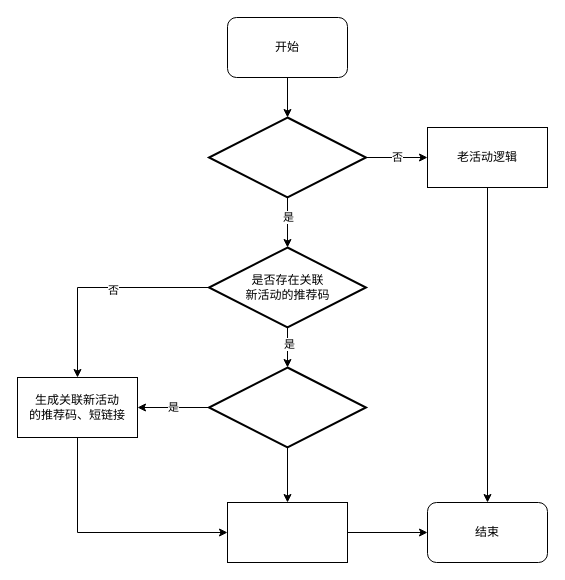
Image size: 565x580. Some labels were removed from this diagram. The shapes that lost their labels are listed below. From the top down, each one's centre as x and y in pixels, then its label:
(x=287, y=157): 获取其是否 有新活动的标签
(x=287, y=407): 推荐码是否使用100次
(x=287, y=532): 返回推荐码
